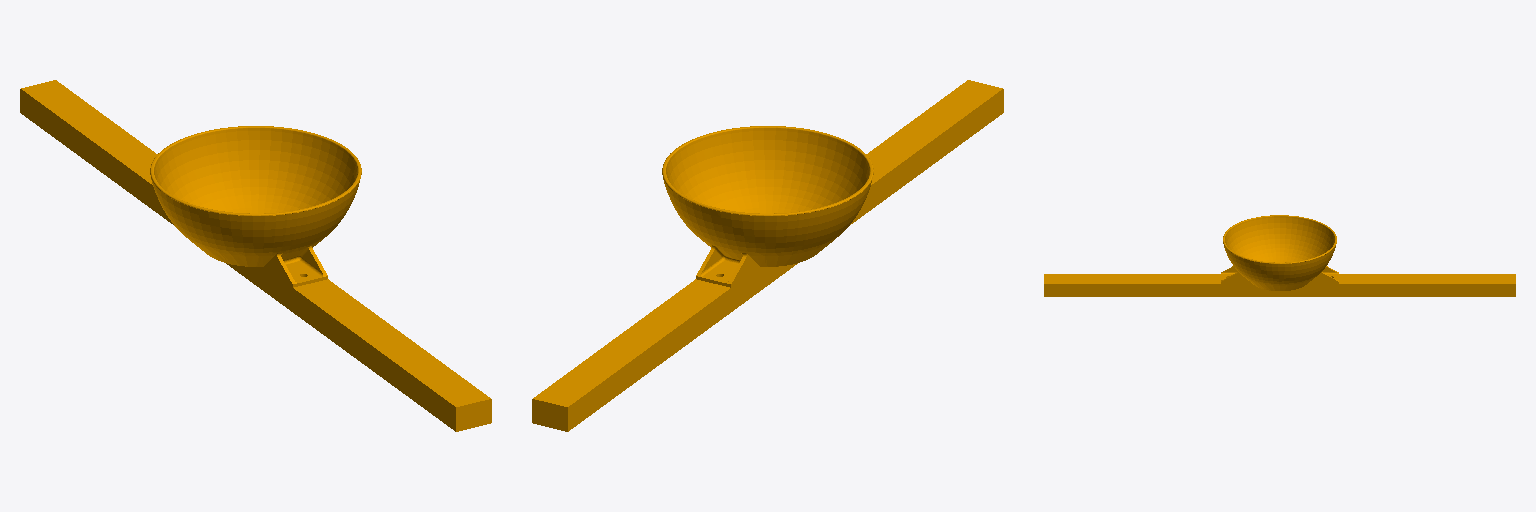
robot.urdf — bowl:
<?xml version="1.0" ?>
<robot name="bowl">
  <link name="bowl">
    <visual>
      <origin xyz="0 0 0"/>
      <geometry>
        <mesh filename="bowl_with_cube.obj"/>
      </geometry>
    </visual>
    <collision>
      <origin xyz="0 0 0"/>
      <geometry>
        <mesh filename="bowl_with_cube.obj"/>
      </geometry>
    </collision>
    <inertial>
      <mass value="0.5"/> 
      <inertia ixx="0.0001" ixy="0.0" ixz="0.0" iyy="0.0001" iyz="0.0" izz="0.0001"/>
    </inertial>
  </link>
</robot>
        

--- What the picture shows (computed from the rendered views, not written in the file) ---
The picture shows the robot from 3 angles, left to right: view 1: azimuth 30°, elevation 25°; view 2: azimuth 150°, elevation 25°; view 3: azimuth 270°, elevation 25°; orthographic projection.
Robot: bowl — 1 links, 0 joints (none); root link bowl; default pose: all joints at 0.
Links seen in each view (by area): view 1: bowl; view 2: bowl; view 3: bowl.
Link boxes in pixels (left/top/right/bottom): bowl: left=20, top=80, right=491, bottom=431; bowl: left=532, top=80, right=1003, bottom=431; bowl: left=1044, top=215, right=1515, bottom=296.
Size in the robot's own frame: 0.1556 by 0.64 by 0.0796 metres.
1 mesh visuals loaded from 1 distinct referenced files (1 OBJ).
